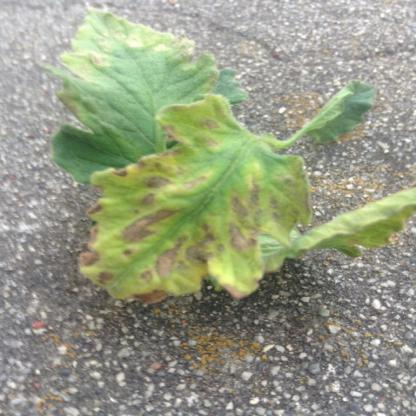tomato mold leaf: (78, 96, 321, 319)
